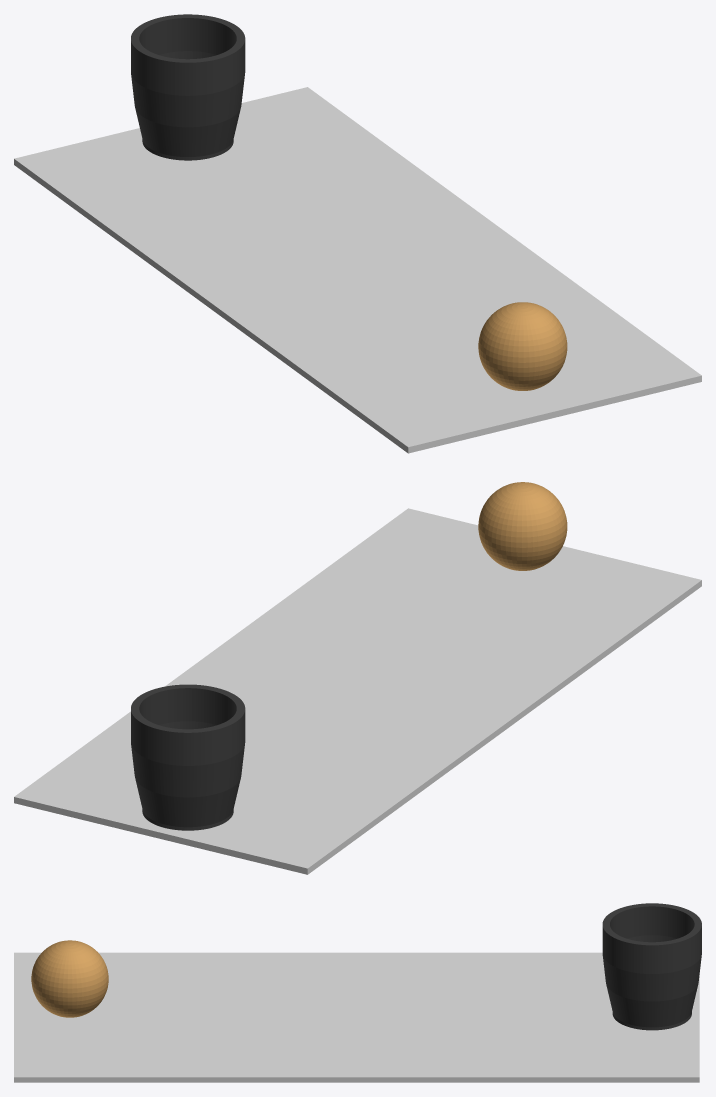
Rendered from First_Attempt.gltf.
The picture shows the model from 3 angles, top to bottom: view 1: azimuth 30°, elevation 25°; view 2: azimuth 150°, elevation 25°; view 3: azimuth 270°, elevation 25°; orthographic projection. The views are drawn at different scales.
Visible parts, largest first — view 1: Cube, Cylinder, Sphere; view 2: Cube, Cylinder, Sphere; view 3: Cube, Cylinder, Sphere.
Part boxes in pixels (box(x1,y1,x2,y2)): Cube: box(14, 87, 701, 453); Cylinder: box(131, 14, 245, 160); Sphere: box(478, 302, 567, 390); Cube: box(14, 508, 701, 874); Cylinder: box(131, 684, 245, 830); Sphere: box(478, 482, 567, 570); Cube: box(14, 952, 699, 1082); Cylinder: box(602, 903, 701, 1030); Sphere: box(31, 940, 108, 1017).
Size of the model in its own units: 7.61 by 2.73 by 17.76.
